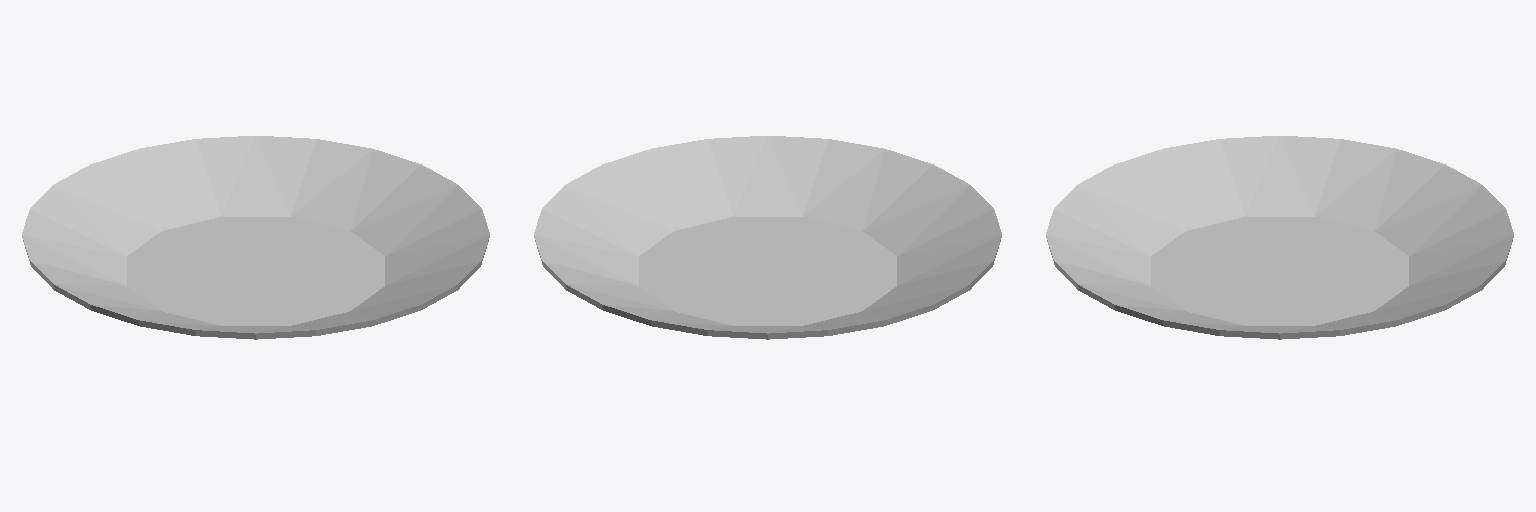
The model's file is Plate03.obj.
3 renders of one model, left to right at view 1: azimuth 30°, elevation 25°; view 2: azimuth 150°, elevation 25°; view 3: azimuth 270°, elevation 25°, orthographic.
Visible parts, largest first — view 1: Plate03_LOD0_dish_plate.002; view 2: Plate03_LOD0_dish_plate.002; view 3: Plate03_LOD0_dish_plate.002.
Boxes of the visible parts, box(x1,y1,x2,y2) form: Plate03_LOD0_dish_plate.002: box(22, 136, 489, 339); Plate03_LOD0_dish_plate.002: box(534, 136, 1001, 339); Plate03_LOD0_dish_plate.002: box(1046, 136, 1513, 339).
Size of the model in its own units: 0.2203 by 0.0223 by 0.2203.